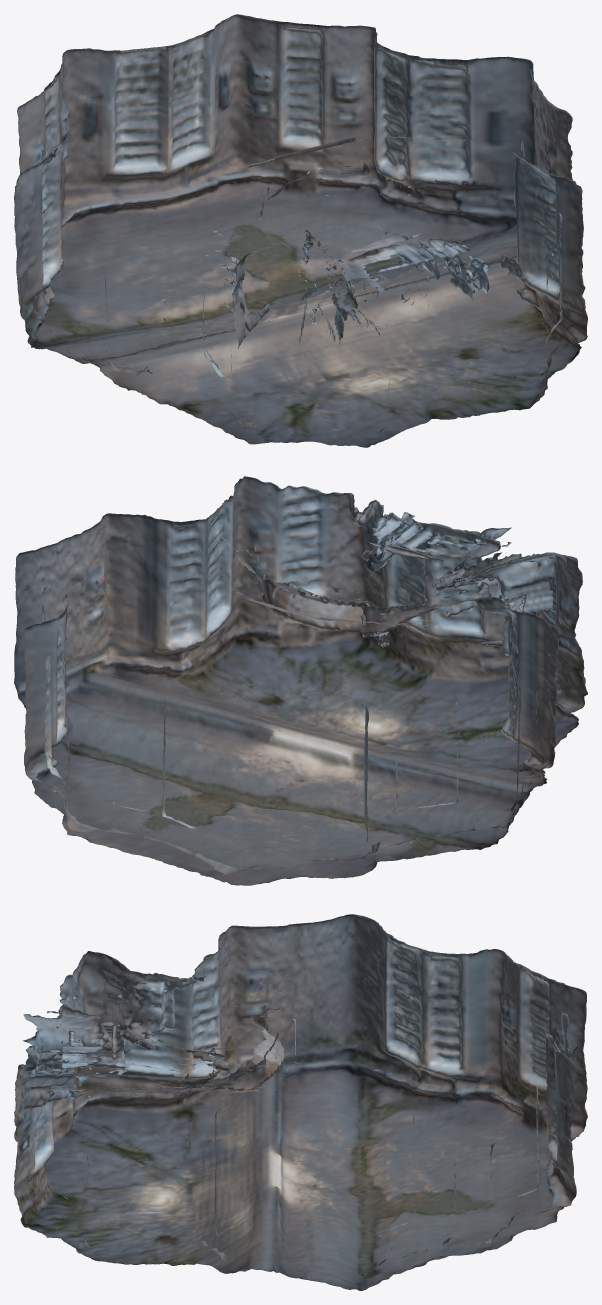
Rendered from world-1770895850197.glb.
3 renders of one model, top to bottom at view 1: azimuth 30°, elevation 25°; view 2: azimuth 150°, elevation 25°; view 3: azimuth 270°, elevation 25°, orthographic. The views are drawn at different scales.
Visible parts, largest first — view 1: world; view 2: world; view 3: world.
Boxes of the visible parts, bbox=[...] form: world: bbox=[14, 14, 587, 447]; world: bbox=[14, 476, 587, 885]; world: bbox=[14, 914, 587, 1290].
Bounding box in the file's own units: 4.16 × 1.47 × 4.3.
